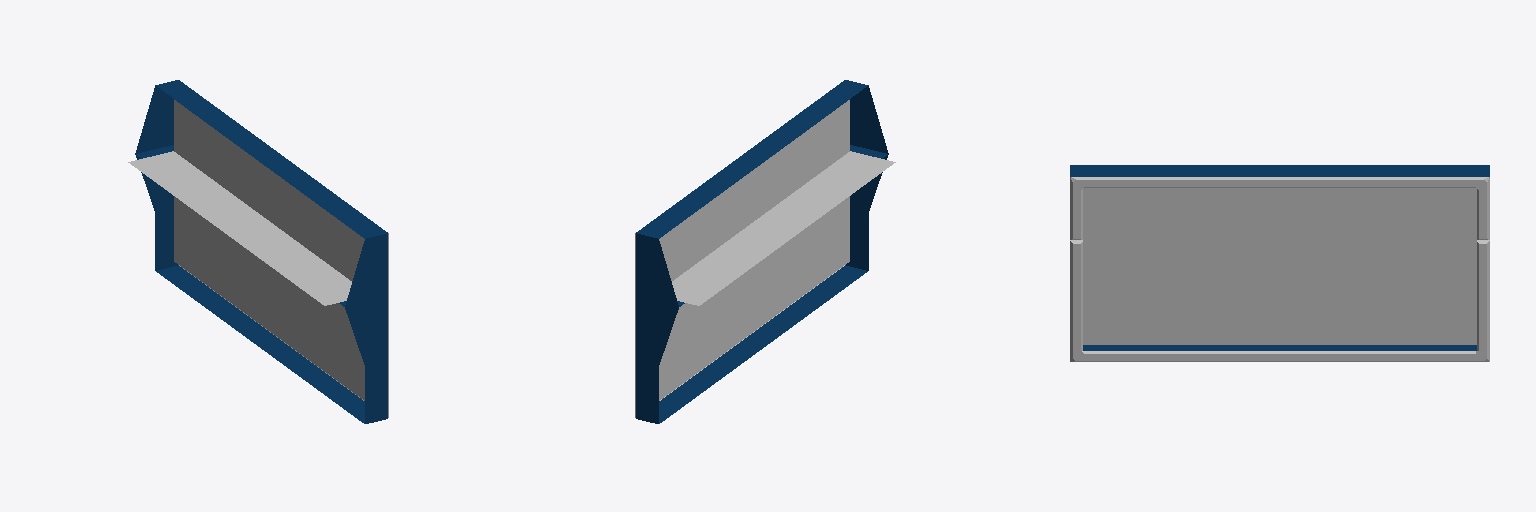
File: WhiteBoard.obj
3 renders of one model, left to right at view 1: azimuth 30°, elevation 25°; view 2: azimuth 150°, elevation 25°; view 3: azimuth 270°, elevation 25°, orthographic.
Visible parts, largest first — view 1: Plane.001; view 2: Plane.001; view 3: Plane.001.
Part boxes in pixels (left/top/right/bottom): Plane.001: left=128, top=80, right=388, bottom=423; Plane.001: left=635, top=80, right=895, bottom=423; Plane.001: left=1070, top=165, right=1489, bottom=361.
Bounding box in the file's own units: 4.84 × 14.47 × 29.61.